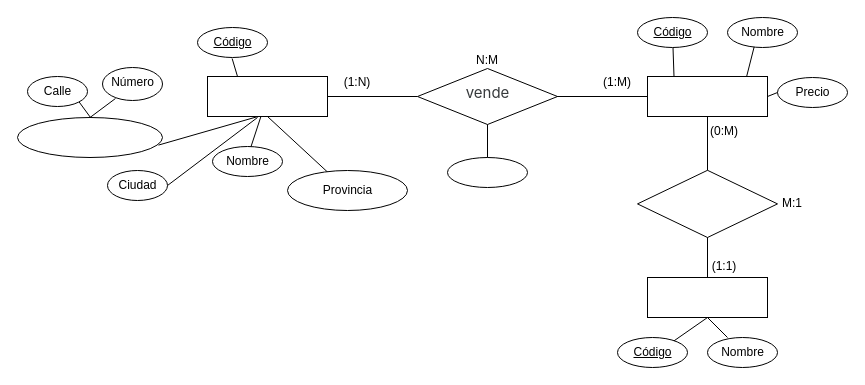
This 865x385 diagram has some shape labels left out. Here are the shapes that lost their labels. From the top down, the centre of each, then its label:
(267,96): Empresa
(707,96): Productos
(89,137): Dirección
(487,172): Cantidad
(707,203): son comprados
(707,297): Clientes
